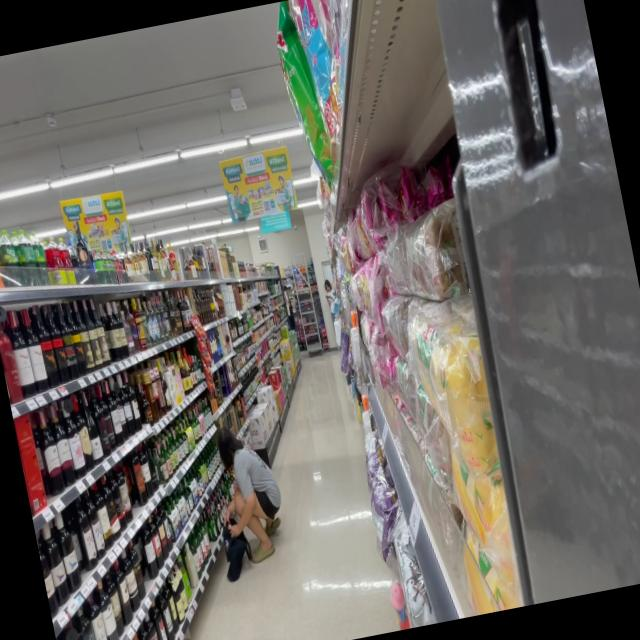shoplifting: (198, 414, 291, 580)
